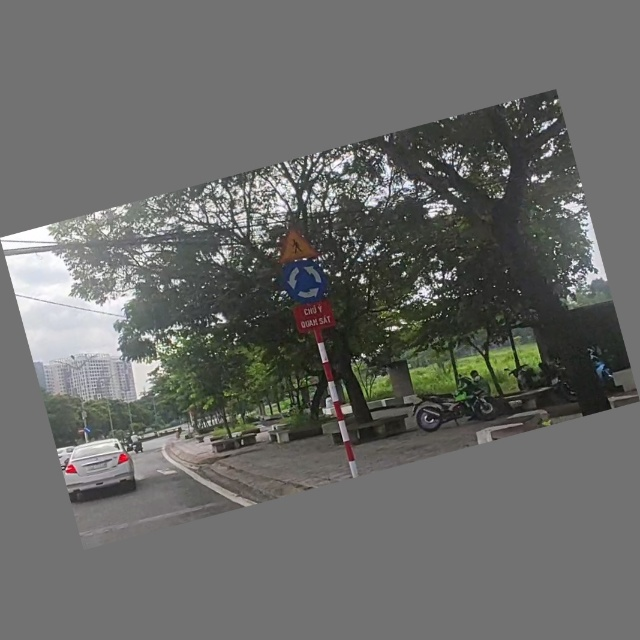P.102: (76, 427, 85, 436)
R.302a: (83, 426, 94, 436)
R.303: (279, 257, 333, 309)
W.224: (270, 222, 324, 268)
